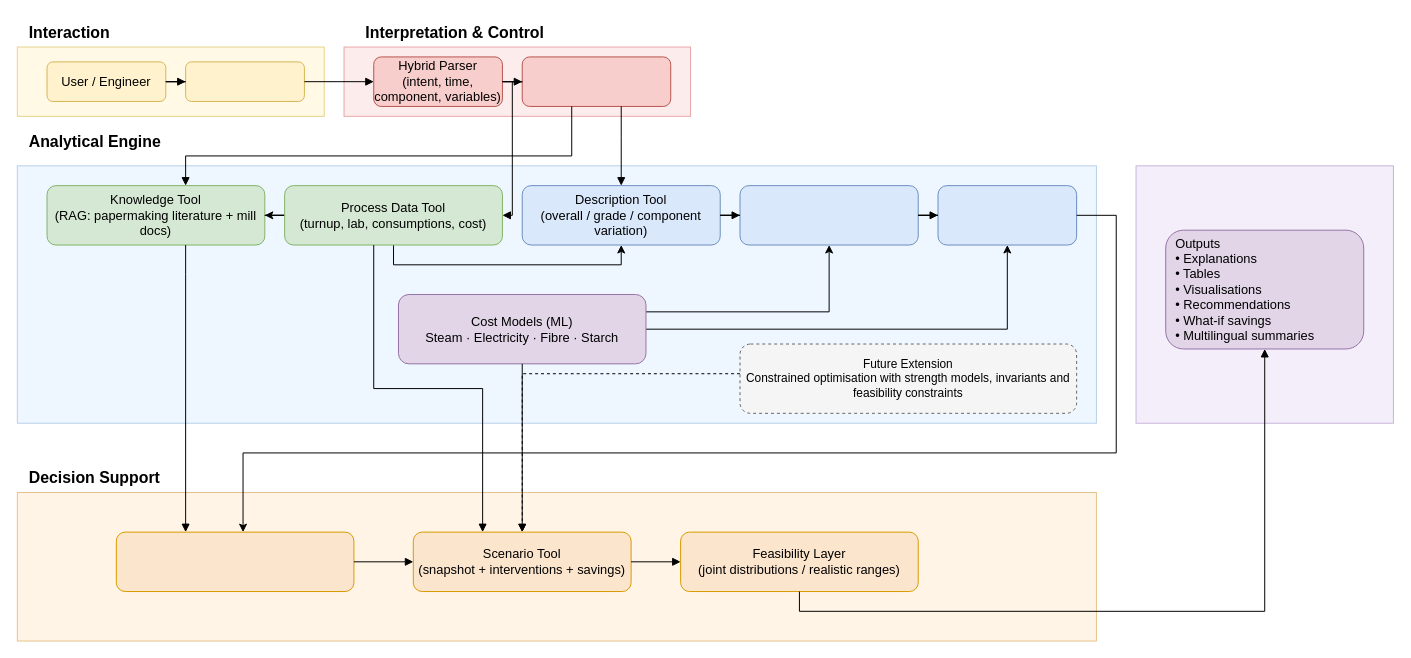
This 1411x658 diagram has some shape labels left out. The box of each missing label's shape, as (x1, y1, x2, y2) in pixels:
Cost Driver Tool (extreme conditions + Shapley drivers): (937, 185, 1077, 245)
Natural Language Interface: (185, 61, 304, 101)
Orchestrator (sequential workflow execution): (521, 56, 671, 106)
Recommendation Tool (data-driven drivers + RAG validation): (115, 531, 354, 592)
SHAP Tool (baseline vs current explanation): (739, 185, 918, 245)
